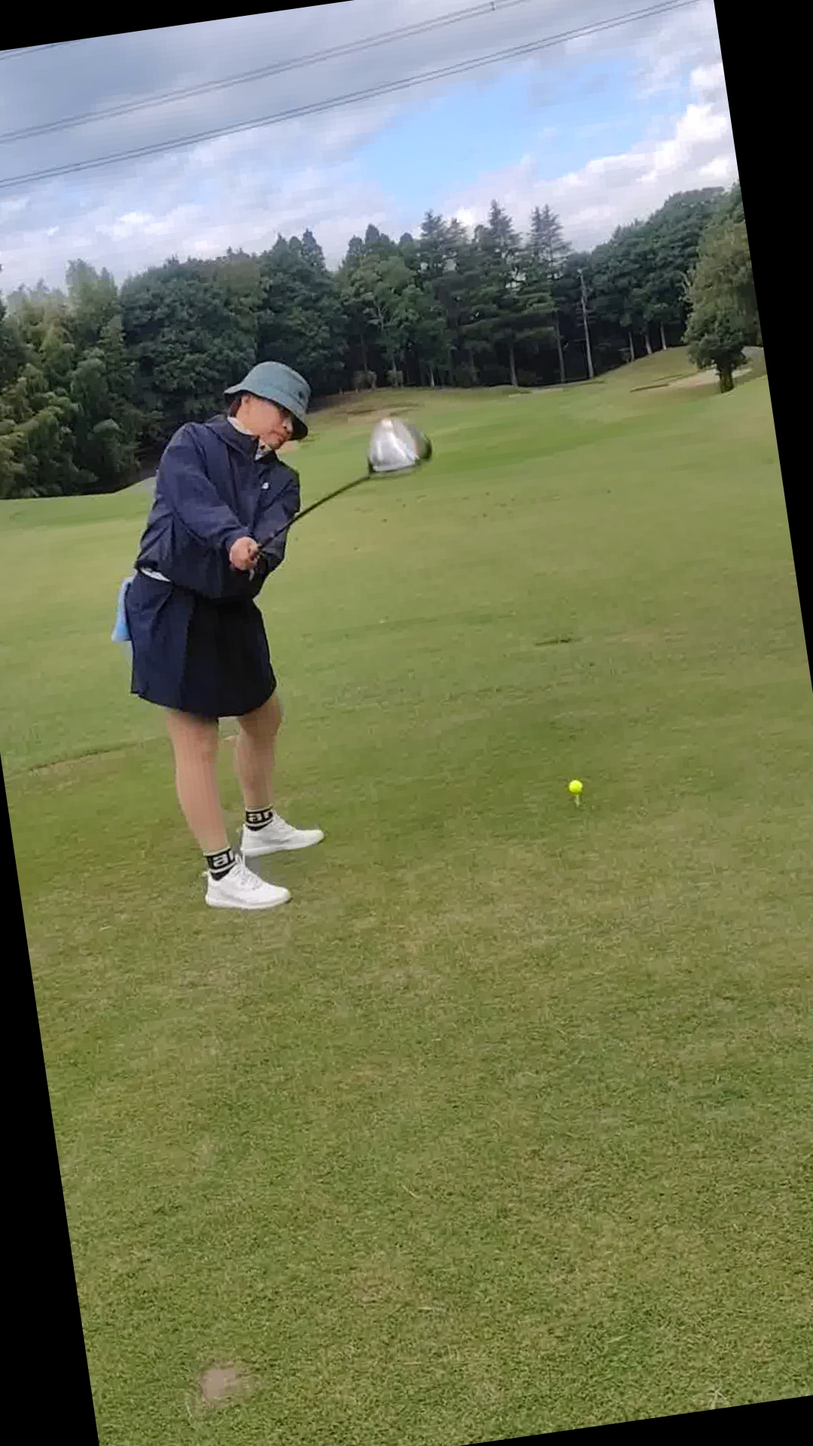clubhead: (248, 315, 556, 603)
